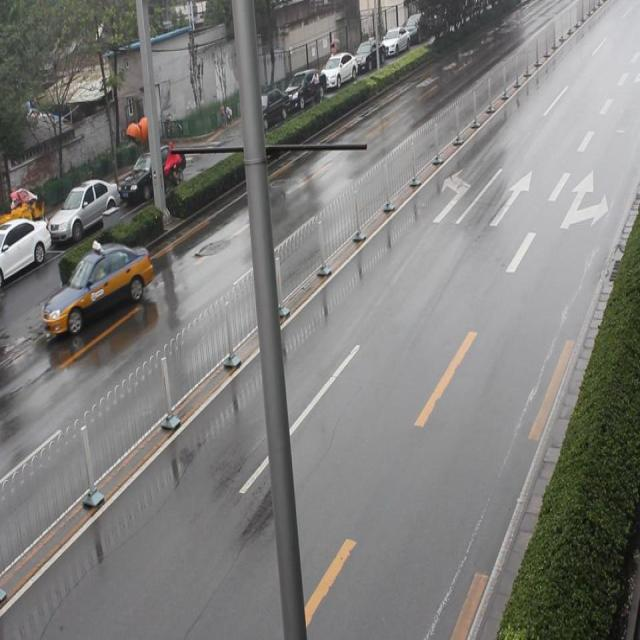car: (33, 234, 158, 353)
